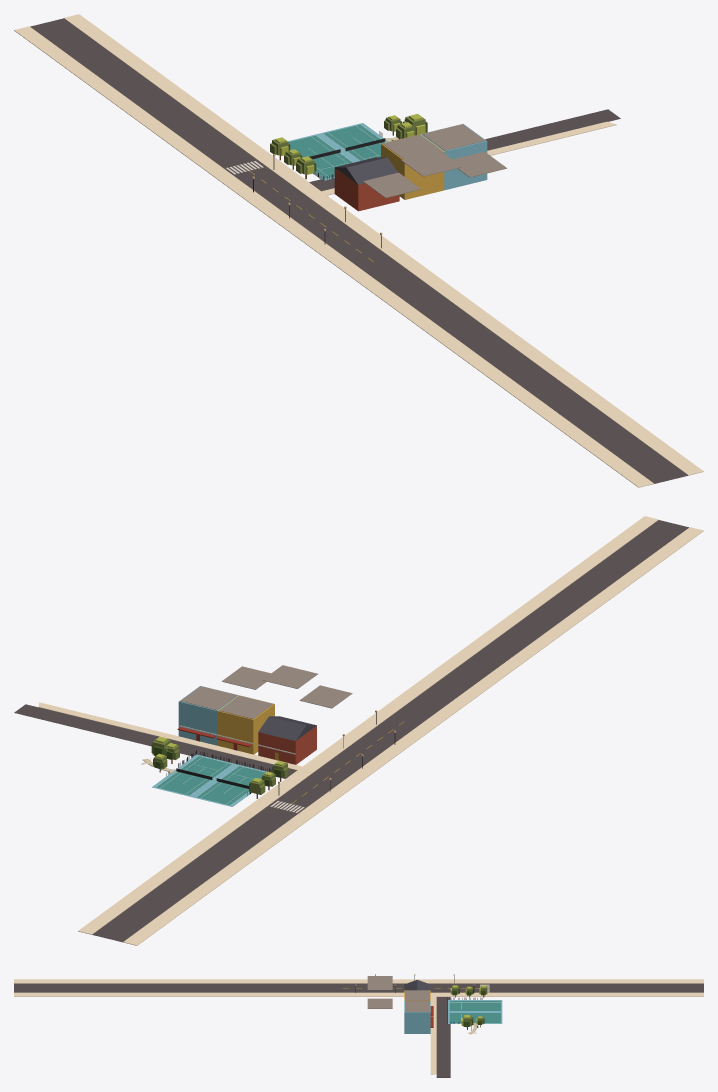
The model's file is chunk_-2_0.glb.
The picture shows the model from 3 angles, top to bottom: view 1: azimuth 30°, elevation 25°; view 2: azimuth 150°, elevation 25°; view 3: azimuth 270°, elevation 25°; orthographic projection. The views are drawn at different scales.
Visible parts, largest first — view 1: chunk_-2_0__ground, chunk_-2_0__building, chunk_-2_0__feat_tennis, chunk_-2_0__tree; view 2: chunk_-2_0__ground, chunk_-2_0__building, chunk_-2_0__feat_tennis, chunk_-2_0__tree; view 3: chunk_-2_0__ground, chunk_-2_0__building, chunk_-2_0__feat_tennis, chunk_-2_0__tree.
Boxes of the visible parts, x1=… form: chunk_-2_0__ground: x1=14, y1=14, x2=703, y2=487; chunk_-2_0__building: x1=334, y1=123, x2=507, y2=211; chunk_-2_0__feat_tennis: x1=288, y1=123, x2=393, y2=180; chunk_-2_0__tree: x1=270, y1=114, x2=427, y2=179; chunk_-2_0__ground: x1=14, y1=516, x2=703, y2=945; chunk_-2_0__building: x1=177, y1=665, x2=352, y2=764; chunk_-2_0__feat_tennis: x1=152, y1=750, x2=271, y2=806; chunk_-2_0__tree: x1=151, y1=736, x2=288, y2=798; chunk_-2_0__ground: x1=14, y1=979, x2=703, y2=1077; chunk_-2_0__building: x1=367, y1=976, x2=433, y2=1033; chunk_-2_0__feat_tennis: x1=447, y1=997, x2=502, y2=1023; chunk_-2_0__tree: x1=450, y1=985, x2=487, y2=1029.
Size of the model in its own units: 106 by 14.32 by 315.
